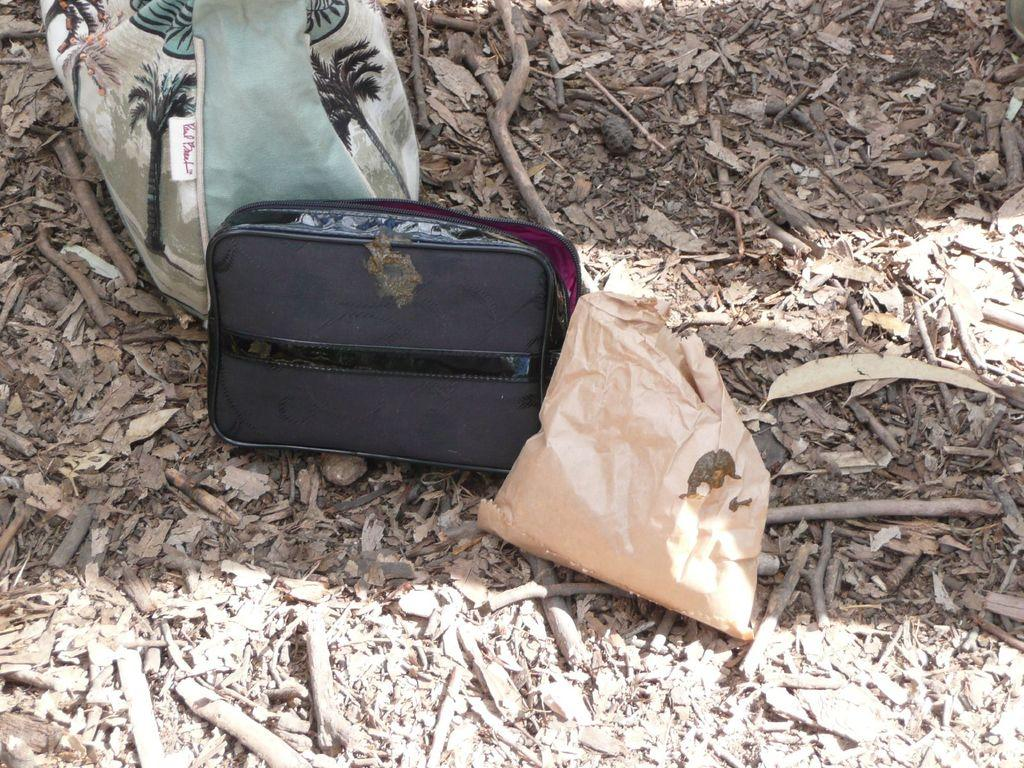Luggage-and-bags: (199, 197, 599, 515), (42, 0, 420, 321)
